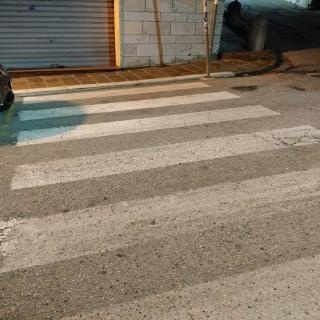road_crosswalk: (1, 83, 319, 319)
